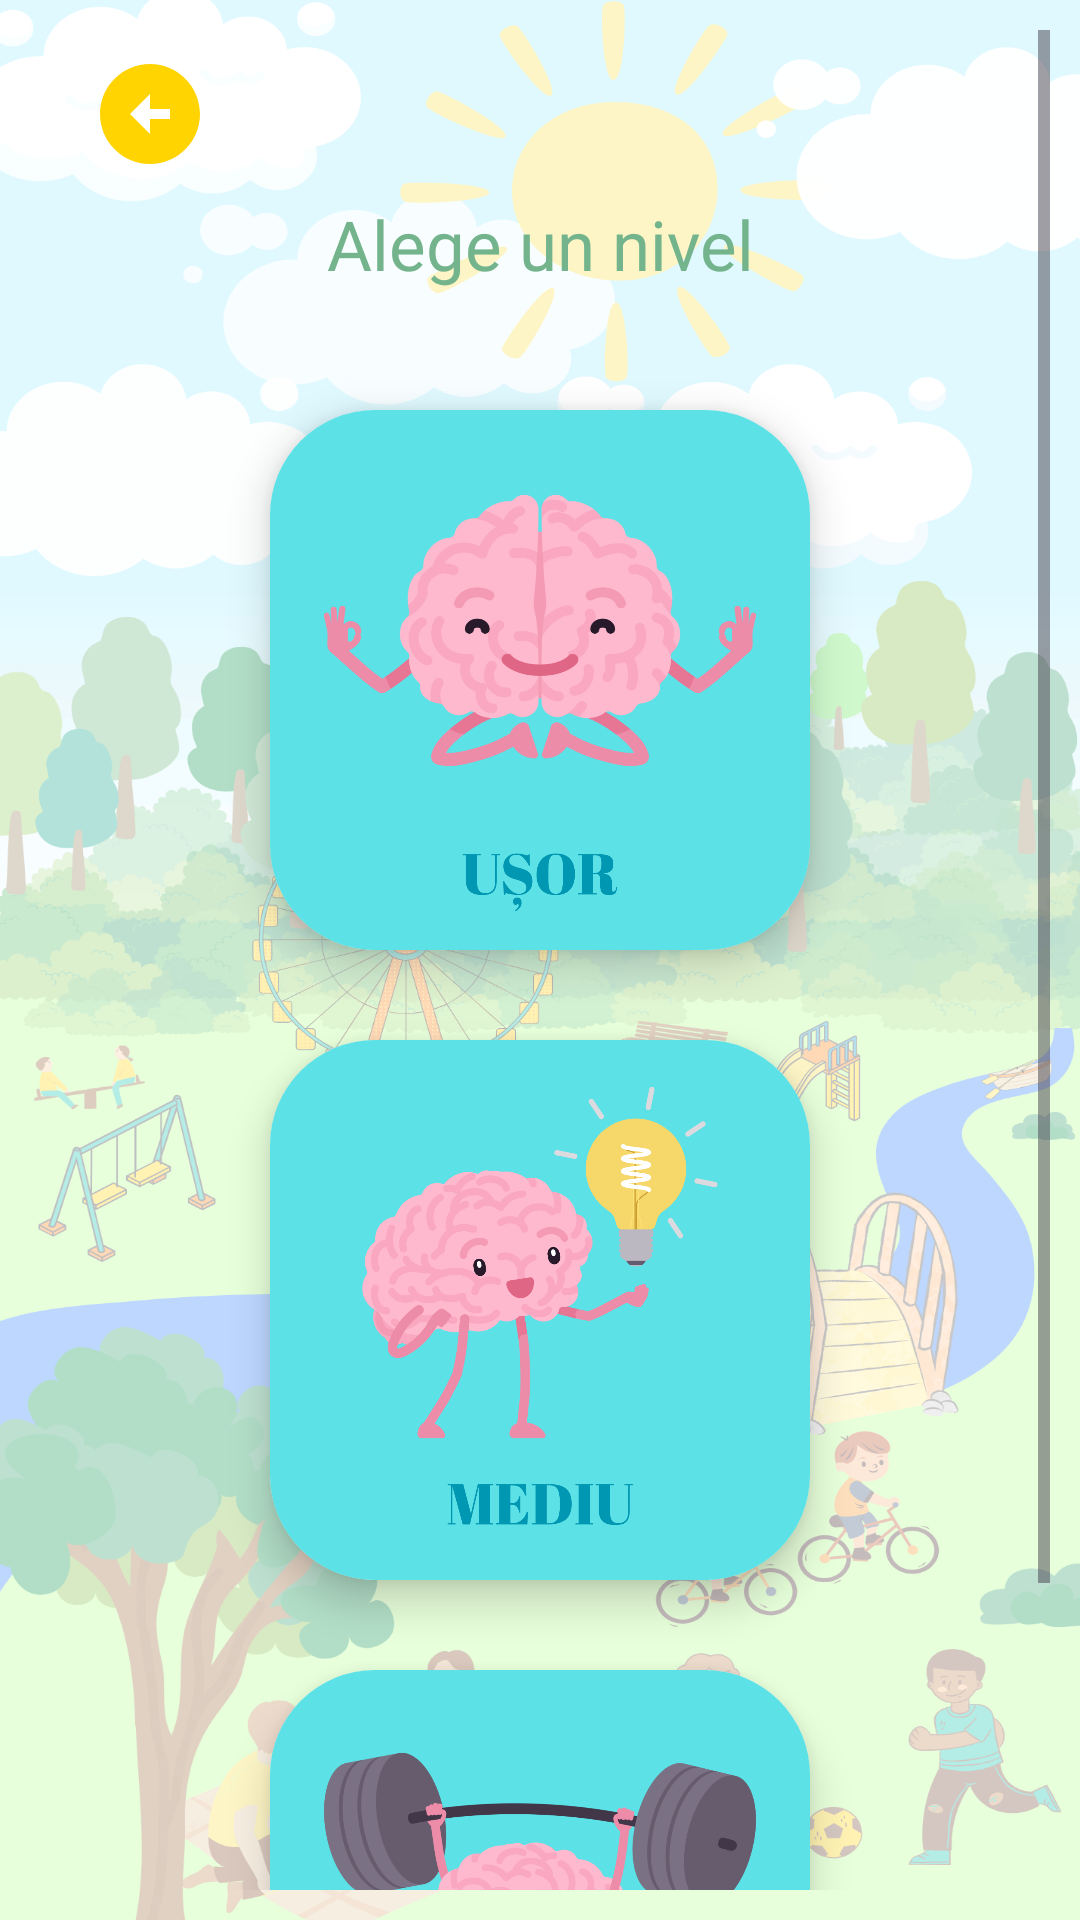

Icon click points for this 1080×1920 phone screenshot, format point (x, y):
Înapoi: point (150, 114)
